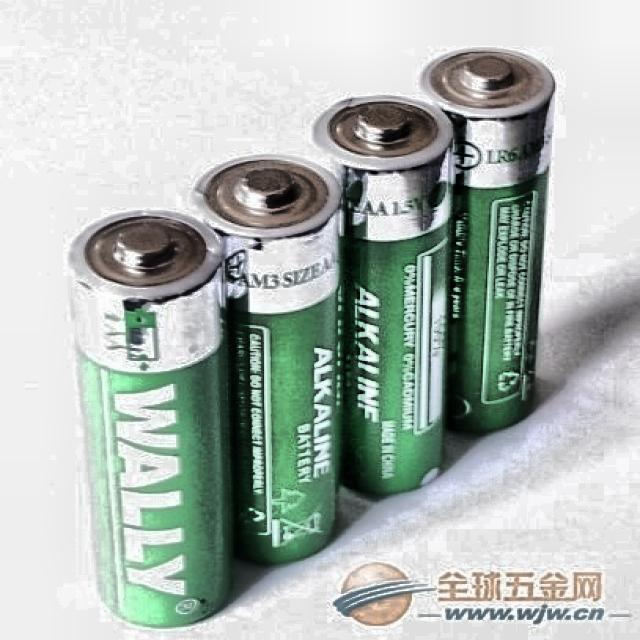battery: (74, 211, 231, 626), (195, 156, 340, 563), (314, 96, 452, 494), (422, 49, 555, 431)
